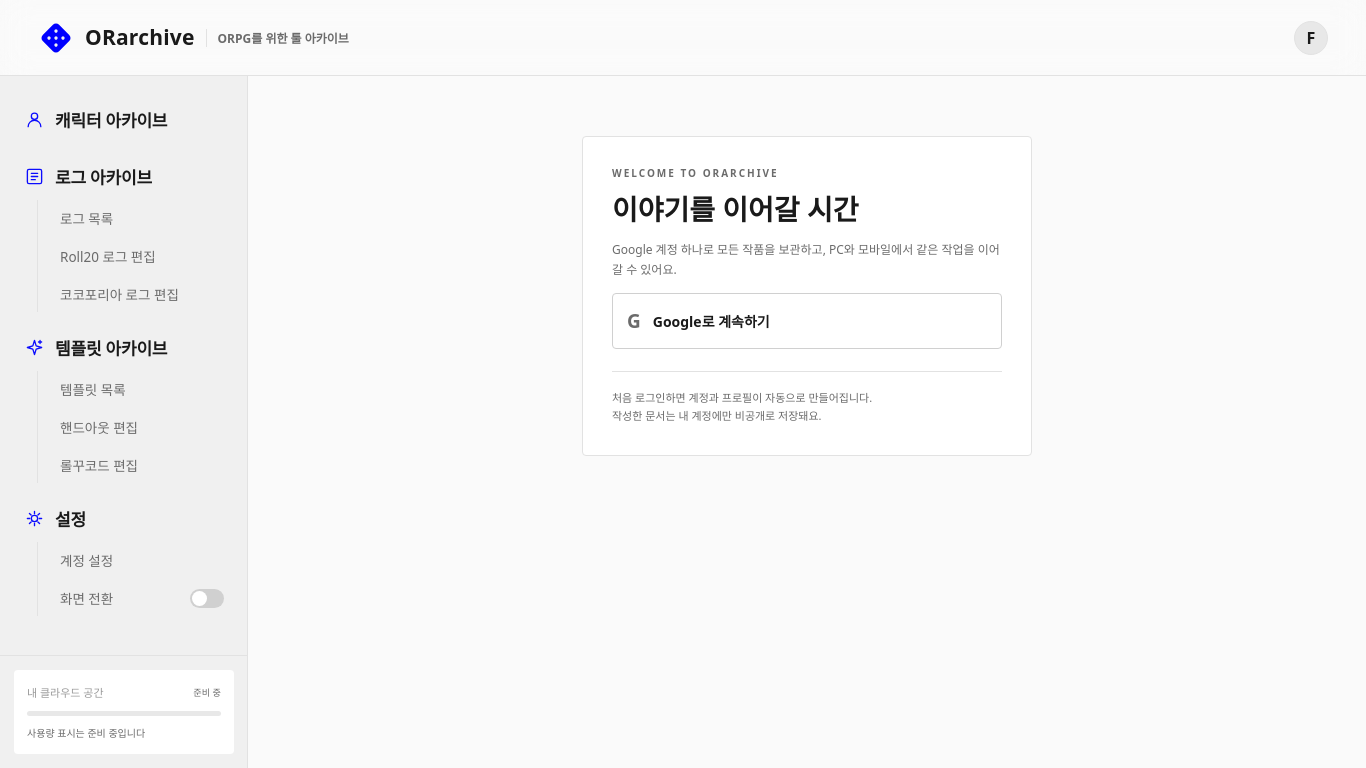
Scenario: 로그인 페이지 › 클릭하면 PKCE OAuth 를 base URL 로 돌아오게 시작하고, next 경로를 기억한다
The image size is (1366, 768).
Step 1. Click the button "G Google로 계속하기" → coordinates (711, 321), box x1=612 y1=293 x2=1002 y2=349
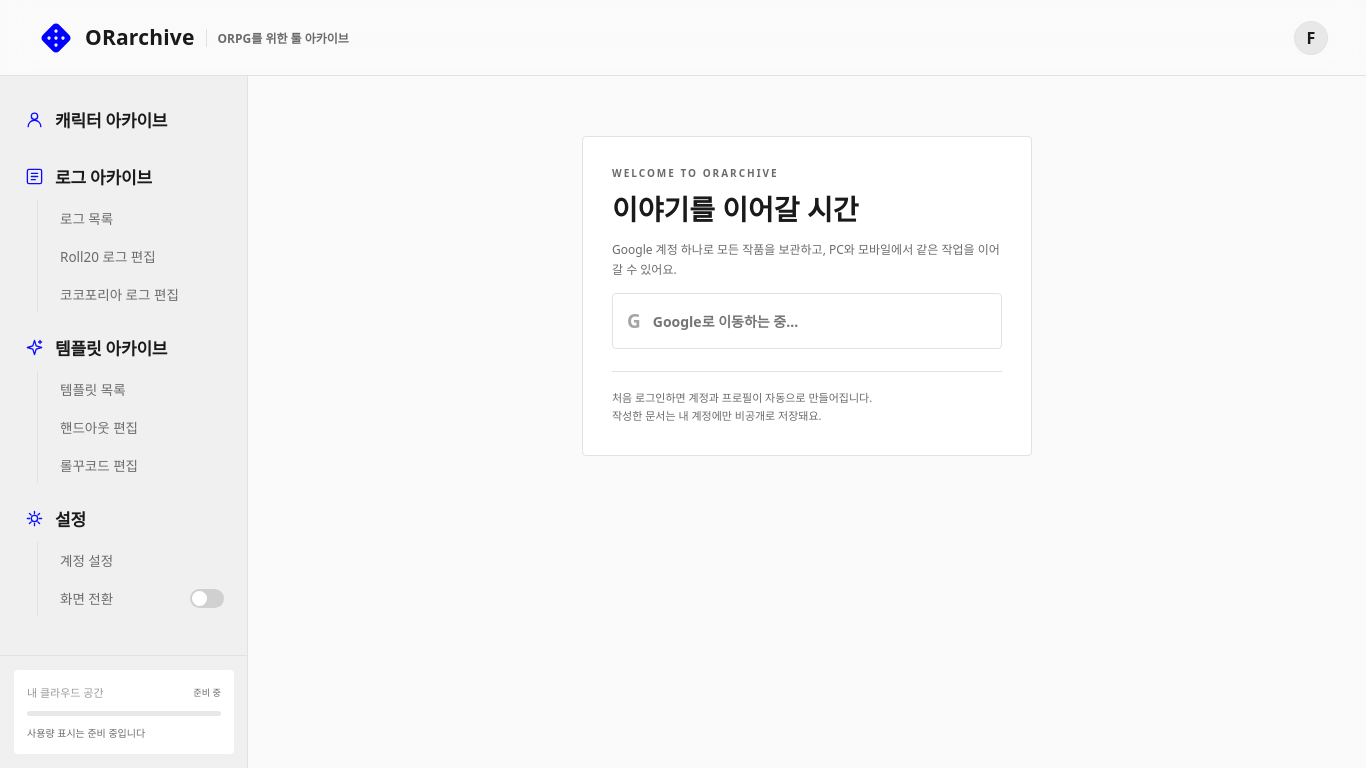
Check: the button "G Google로 이동하는 중…" is disabled, box x1=612 y1=293 x2=1002 y2=349
